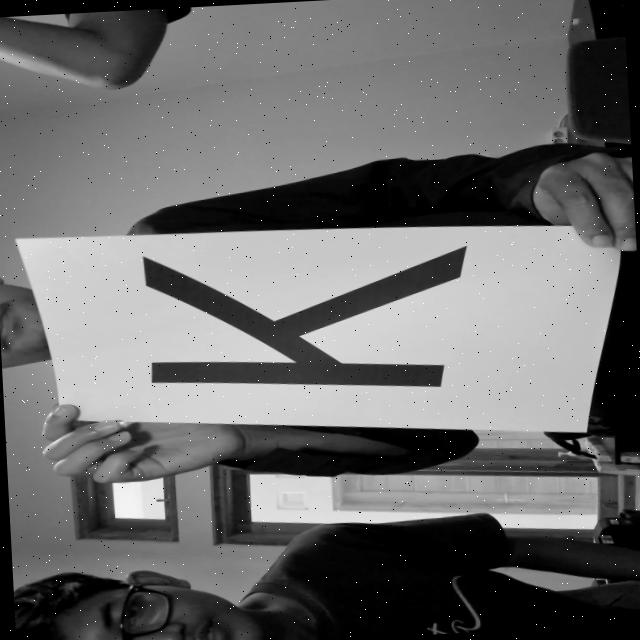k: (94, 232, 498, 416)
